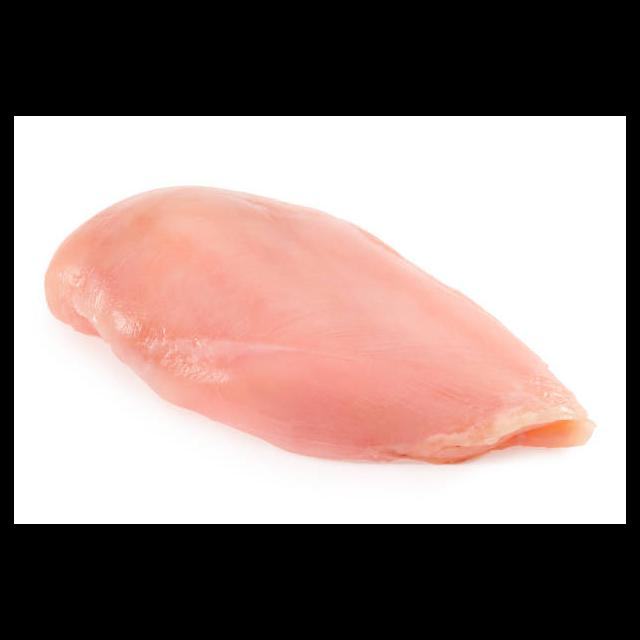chicken: (42, 184, 598, 465)
